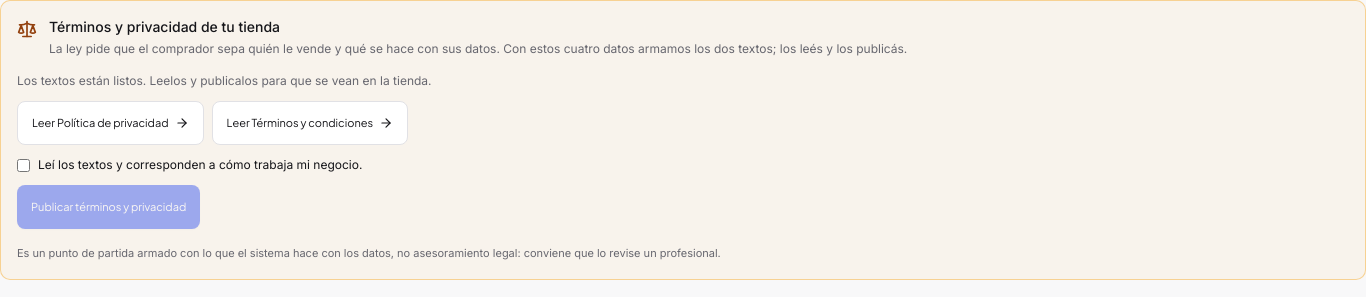
términos y privacidad al tipear › con los borradores escritos, publicar espera que el comercio confirme que los leyó
This screenshot has width=1366, height=297.
Expected: the button "Publicar términos y privacidad" is disabled, x1=17 y1=185 x2=200 y2=229
Click the checkbox labelled "Leí los textos y corresponden a cómo trabaja mi negocio.".
click(24, 166)  # box x1=17 y1=159 x2=30 y2=172
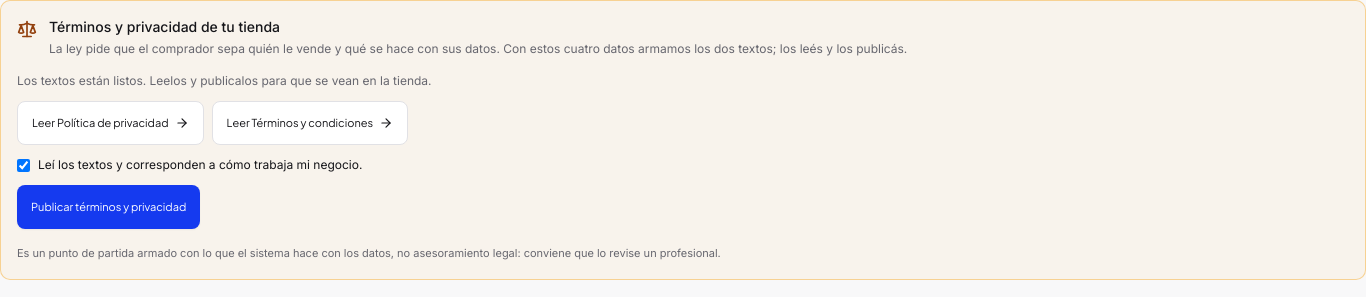
Expected: the button "Leer Política de privacidad" is shown, x1=17 y1=101 x2=204 y2=145
Result: the button "Publicar términos y privacidad" is enabled at x1=17 y1=185 x2=200 y2=229
